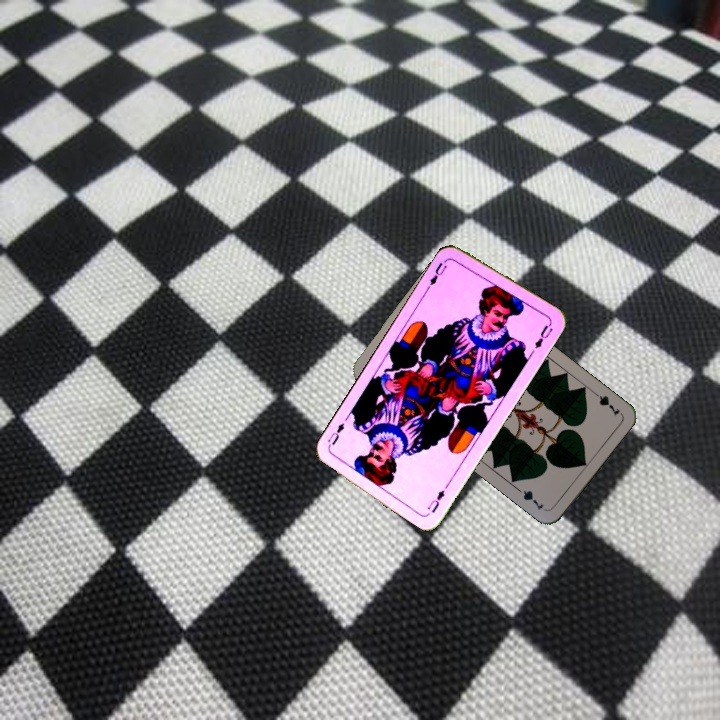EU: (423, 255, 452, 291), (423, 486, 447, 516)
G7: (588, 387, 623, 419)
